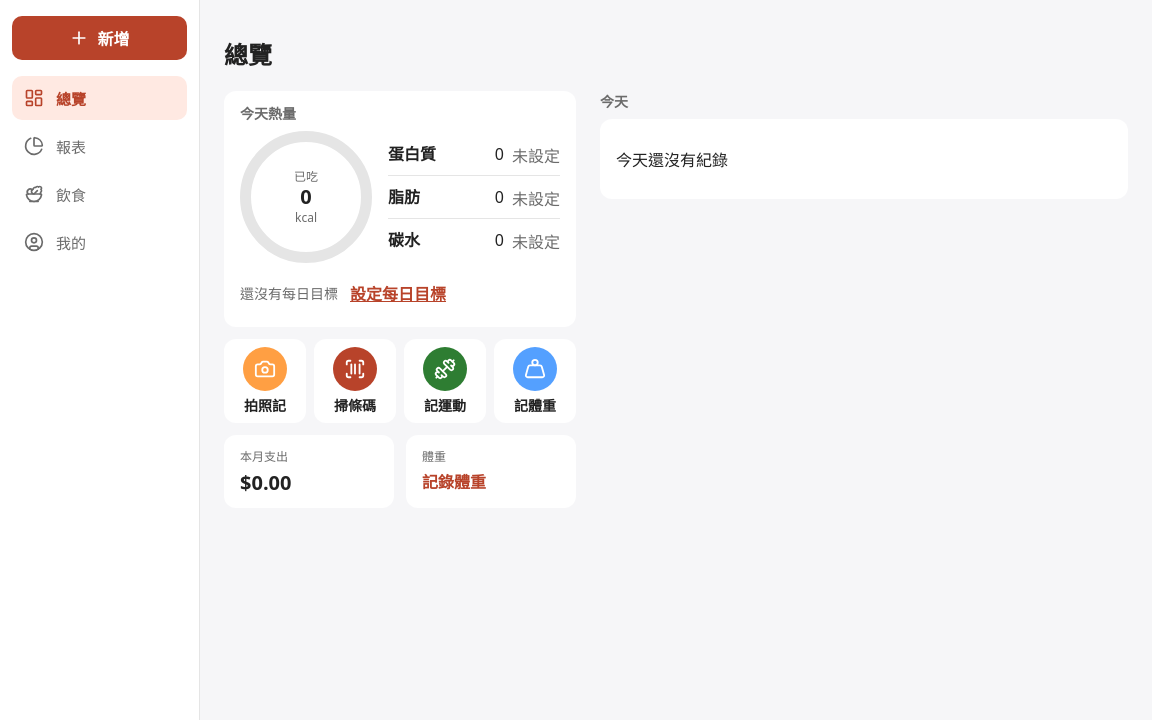
App › 從「＋」點「記運動」到得了表單，內容寬度是表單的
Expected: the heading "總覽" is shown, [224,38,272,71]
Click the button with aria-label "新增紀錄": (100,38) [12,16,187,60]
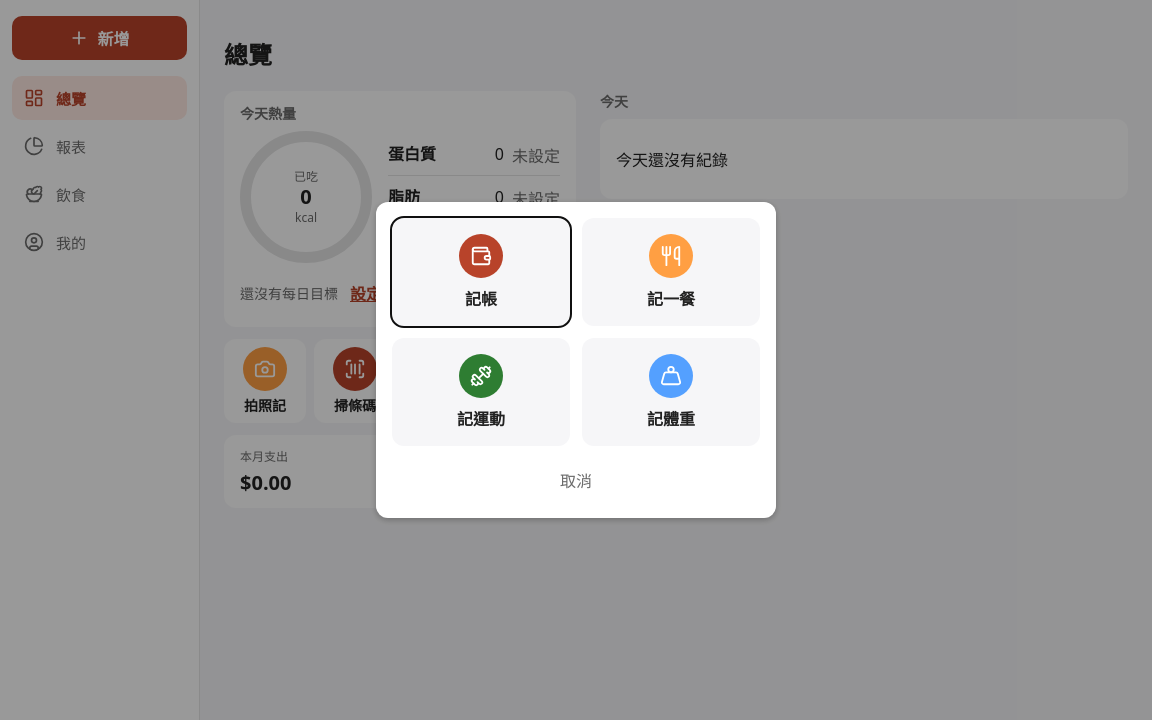
限定在對話框裡（首頁改版規格 D18）：總覽的快速記錄也有一個「記運動」，getByRole 不看 aria-modal。
Click the link "記運動": (481,392) [392,338,570,446]
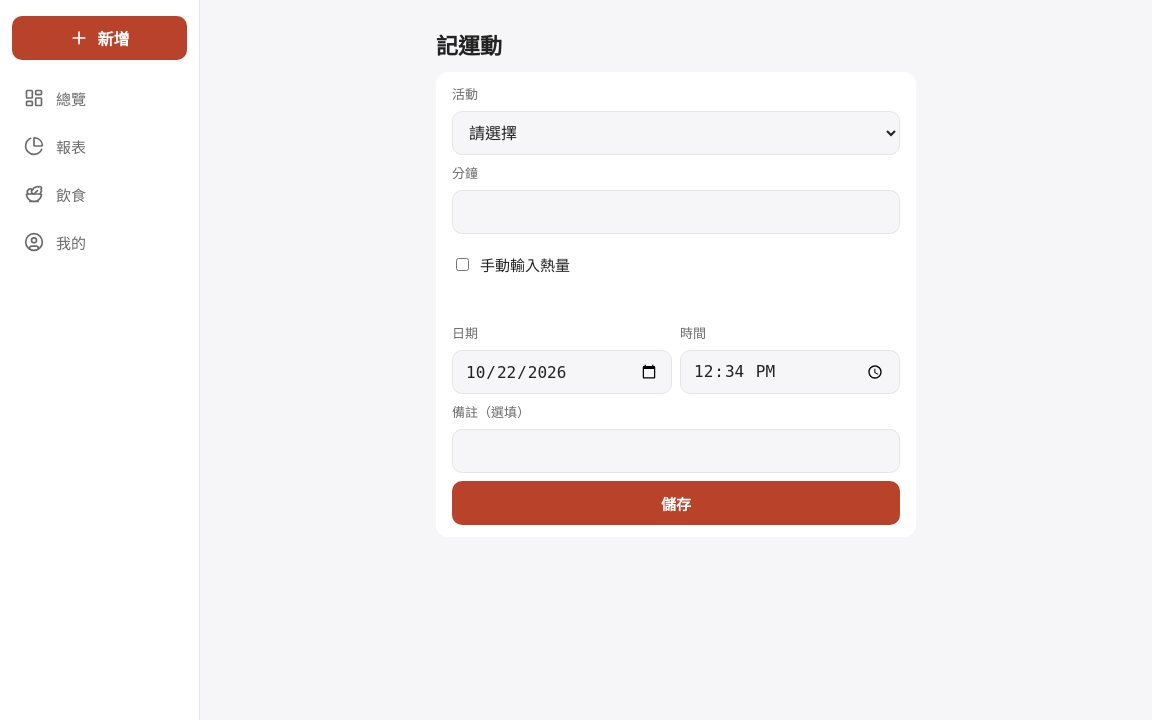
Expected: the heading "記運動" is shown, [436,30,502,60]
Expected: the element with class "app-content-form" is shown, [436,16,916,537]
